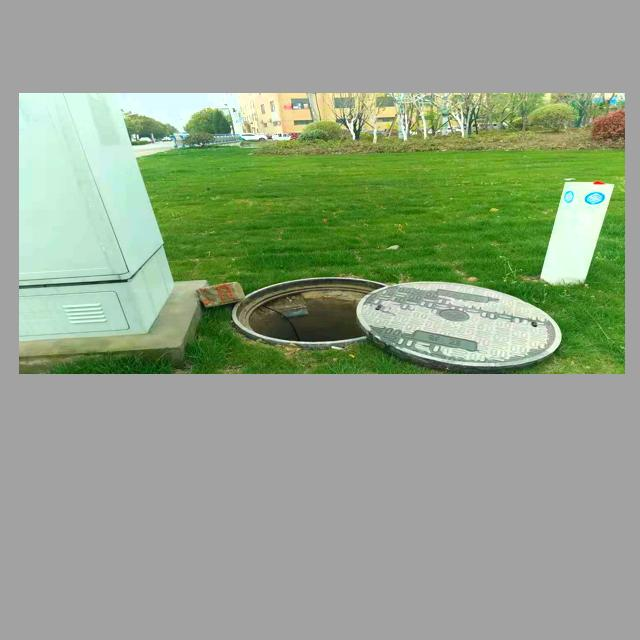uncovered: (227, 270, 561, 365)
